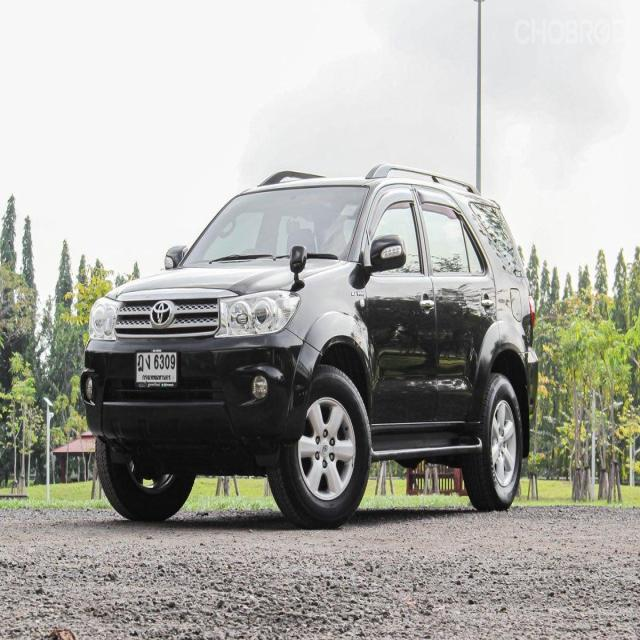license_plate: (135, 350, 180, 390)
